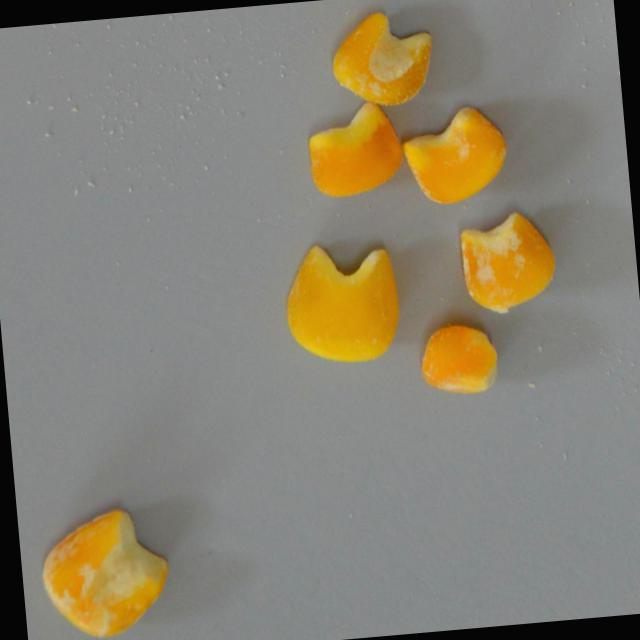no_canjicado: (281, 239, 405, 370), (303, 97, 406, 199)
pelicula: (37, 502, 176, 640), (328, 5, 441, 112), (398, 103, 512, 209), (454, 207, 560, 315), (417, 319, 504, 399)
